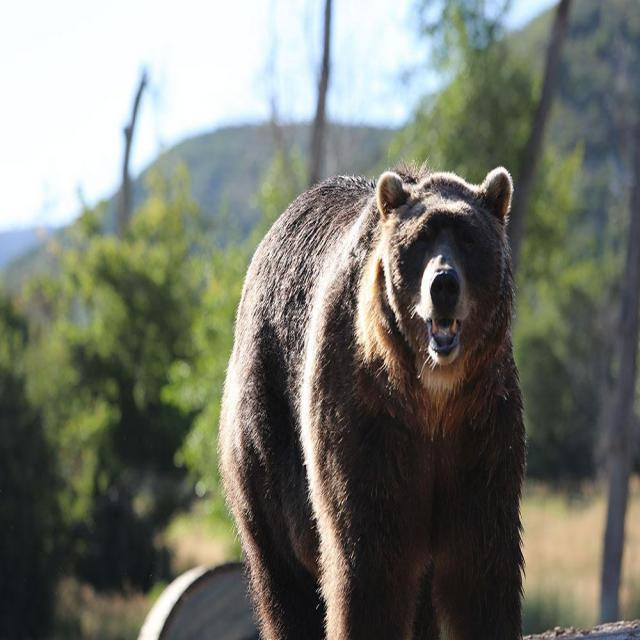Bear: (217, 165, 527, 640)
